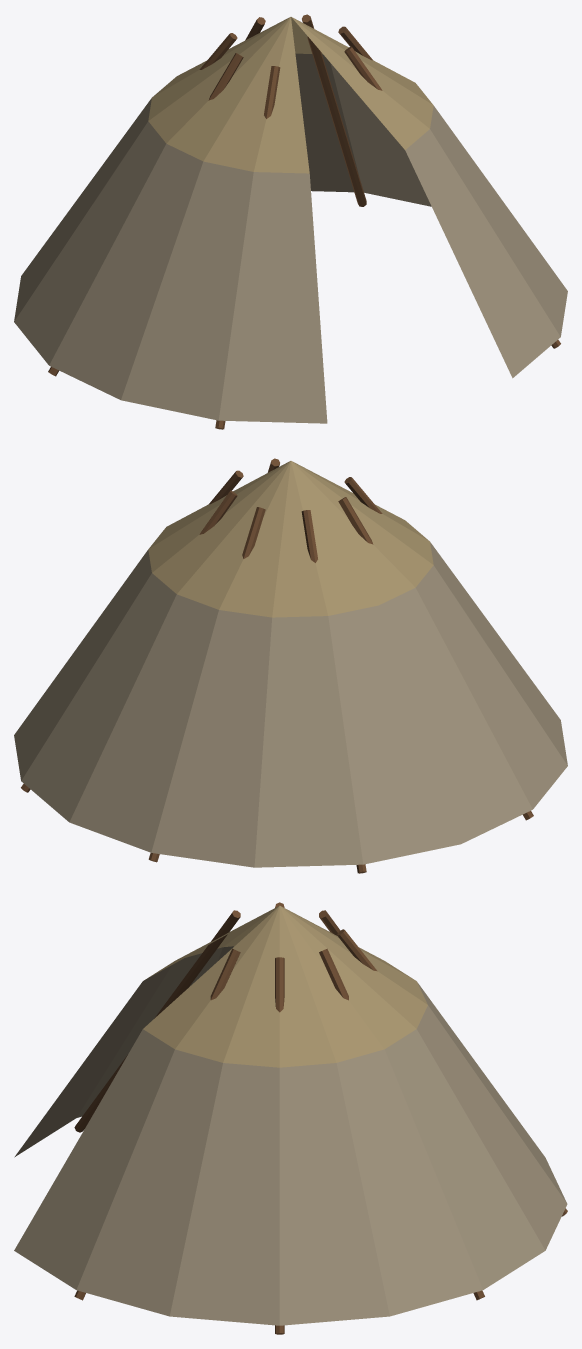
File: carried_round.glb
The picture shows the model from 3 angles, top to bottom: view 1: azimuth 30°, elevation 25°; view 2: azimuth 150°, elevation 25°; view 3: azimuth 270°, elevation 25°; orthographic projection. The views are drawn at different scales.
Visible parts, largest first — view 1: carried_round; view 2: carried_round; view 3: carried_round.
Boxes of the visible parts, x1,y1,x2,y2 form: carried_round: (14,14,567,429); carried_round: (14,458,567,873); carried_round: (14,902,567,1334).
Size of the model in its own units: 3.31 by 1.96 by 3.18.
